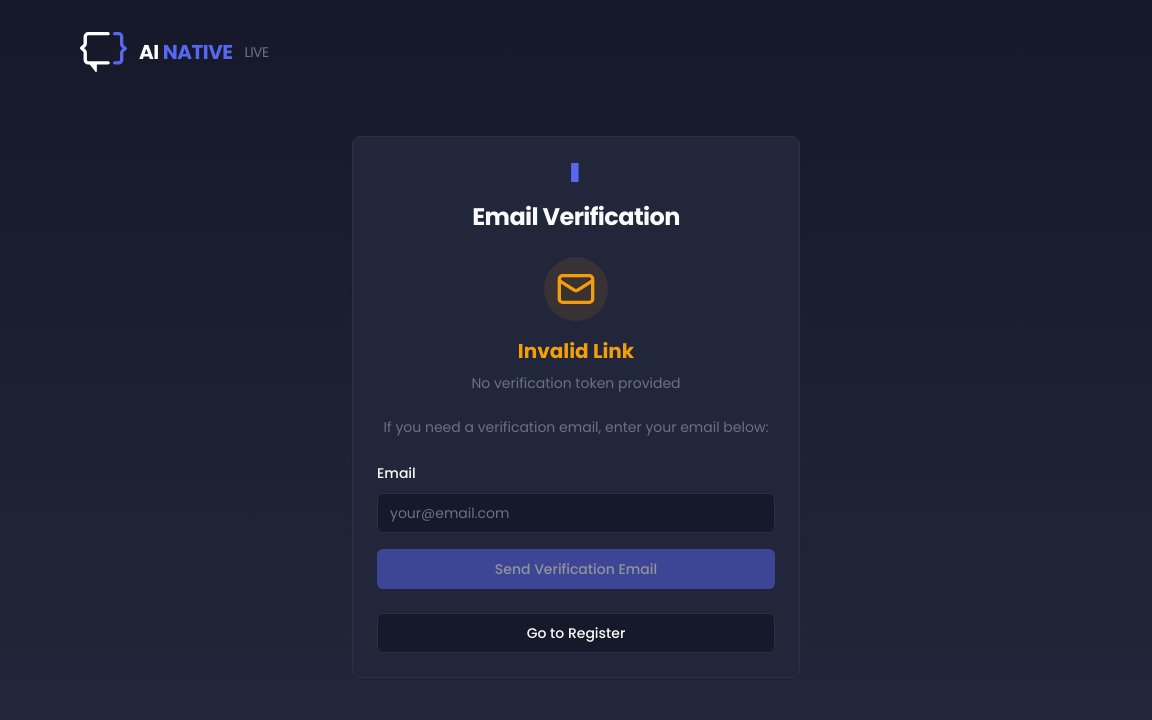
Test: EmailVerificationPage › when no token is provided › should show success message after resending
# When resending verification email
Step 1. Type "user@example.com" into the field labelled "Email" → (576, 513), box [377, 493, 775, 533]
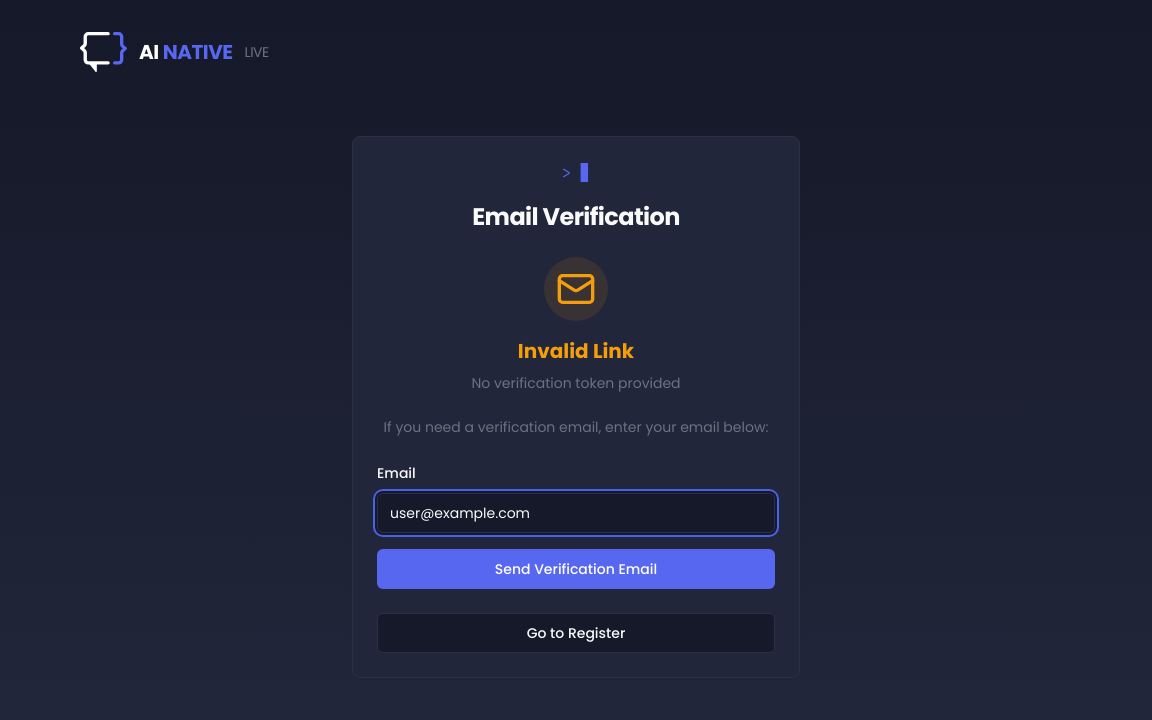
Step 2. Click the button "Send Verification Email" → click(576, 569), box [377, 549, 775, 589]
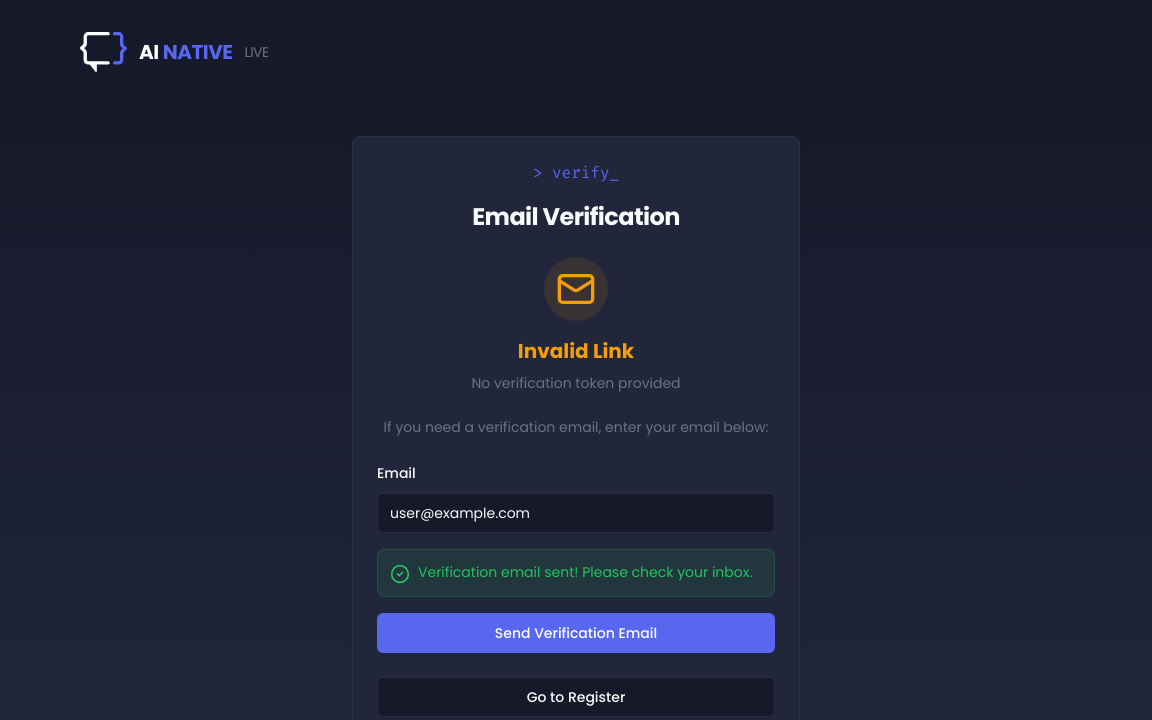
expect the text "Verification email sent! Please check your inbox." is shown: met, box [418, 562, 752, 582]
